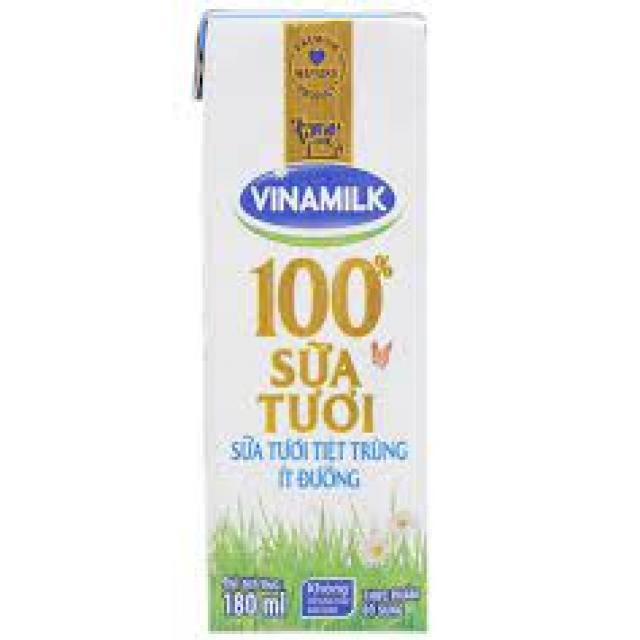non_white_jug: (167, 12, 443, 640)
